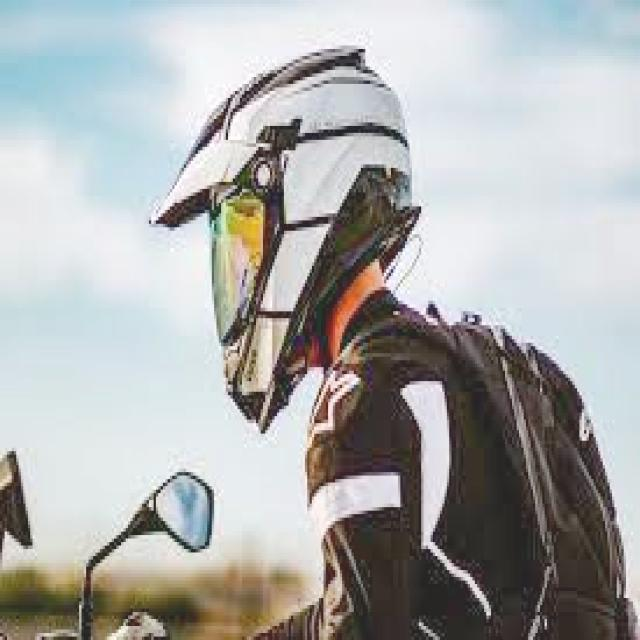helmet: (151, 45, 417, 427)
